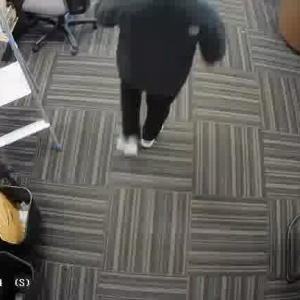person: (114, 0, 214, 158)
